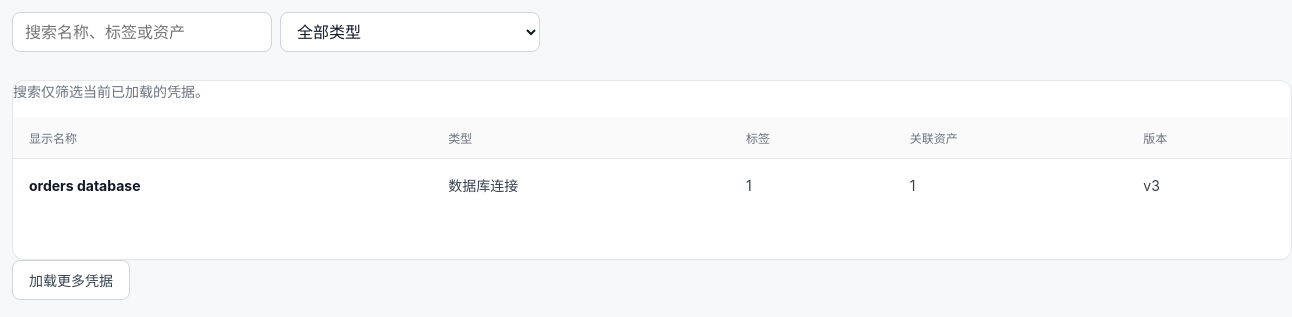
Test: credential workflows › ignores a delayed credential page after the server-side filter changes
Click the button "加载更多凭据". click: (71, 280)
box: [12, 260, 130, 300]
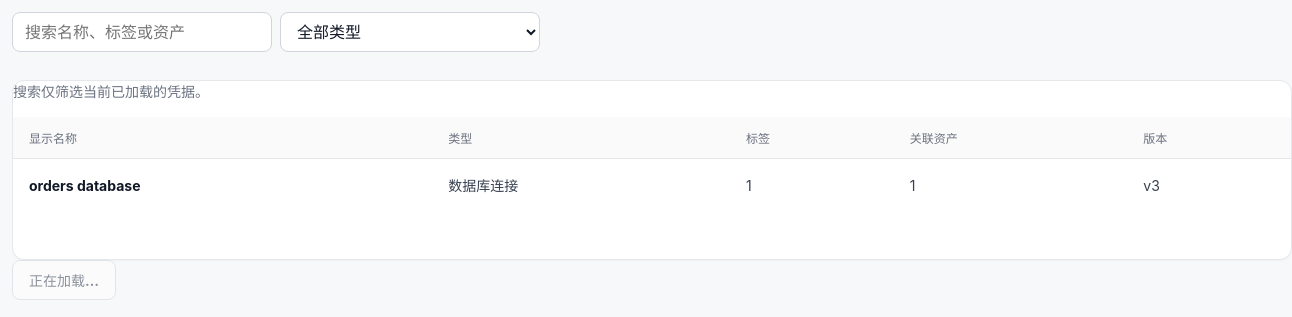
Select "登录账号" in the dropdown named "按类型筛选". click: (410, 32)
box: [280, 12, 540, 52]
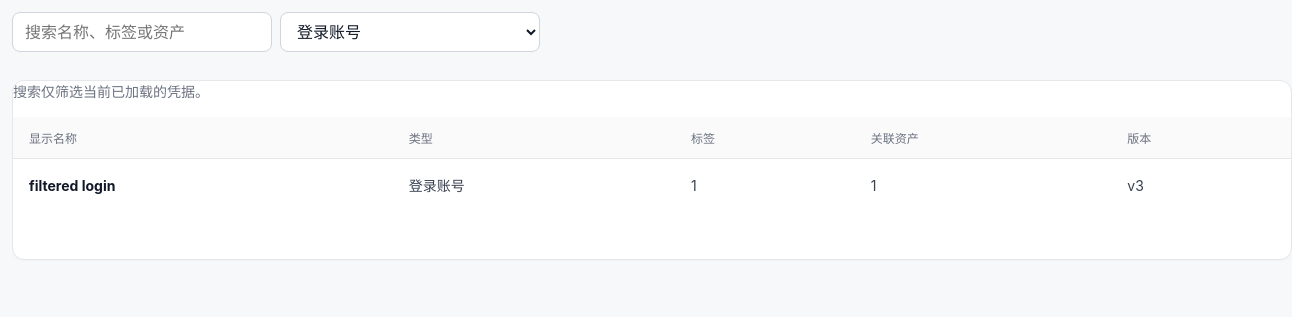
Expected: the button "filtered login" is shown, [29, 173, 115, 198]
